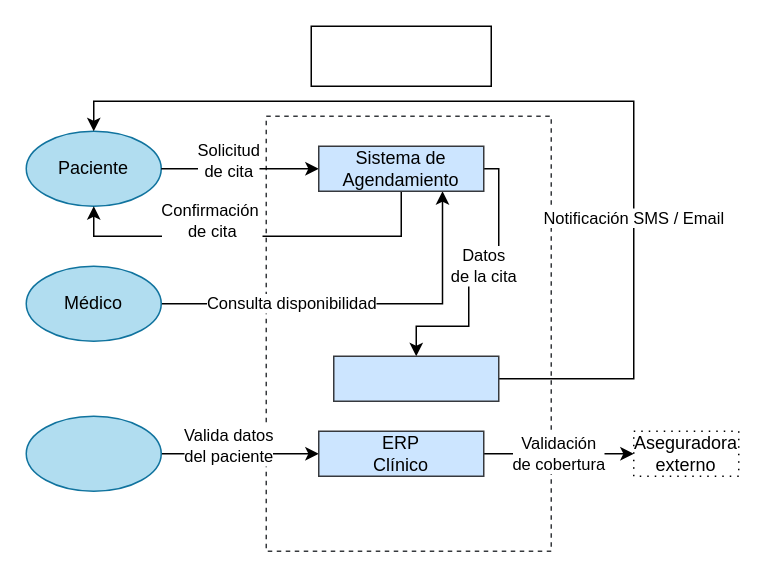
Some shapes in this 765 by 578 pixel diagram are drawn without their labels. The shapes that lost their labels are listed below. From the top down, each one's centre as x and y in pixels, then its label:
At point (400, 55): "Clinica Salud viva".
At point (415, 378): "Notificador (SMS / Email)".
At point (93, 453): "Asistente Administrativo".
